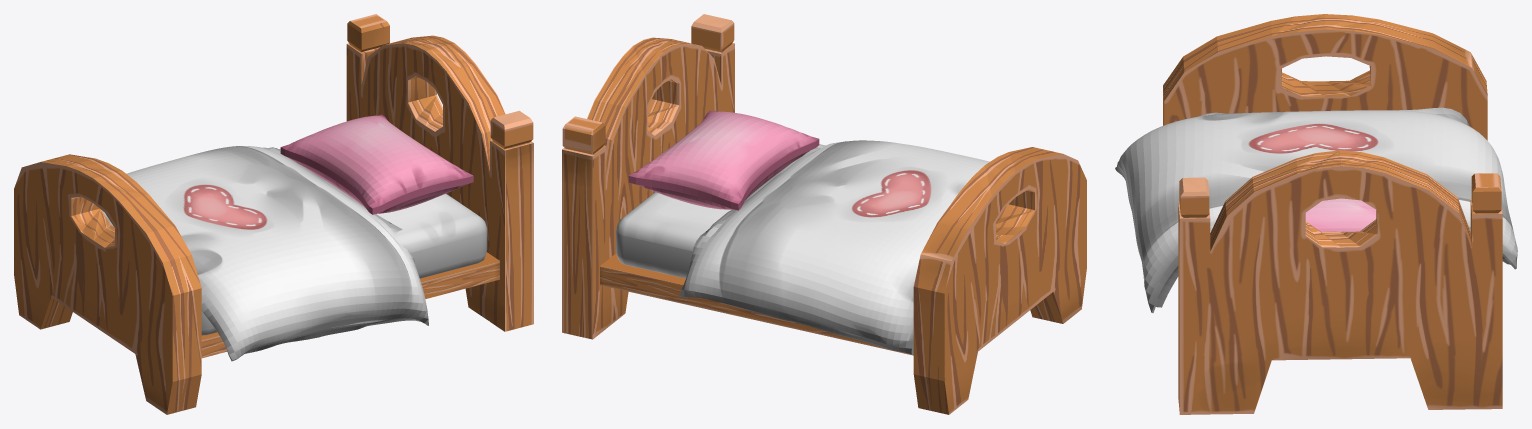
The model's file is Test Bed Nicole.FBX.
3 views of the same model, side by side, from view 1: azimuth 30°, elevation 25°; view 2: azimuth 150°, elevation 25°; view 3: azimuth 270°, elevation 25° (orthographic). The views are drawn at different scales.
Parts seen in each view (by area): view 1: Blanket, Kayu bawah001, Kayu Atas001, Bantal, Mattres, Kayu Tengah001; view 2: Blanket, Kayu bawah001, Kayu Atas001, Bantal, Mattres, Kayu Tengah001; view 3: Kayu Atas001, Blanket, Kayu bawah001, Bantal.
Boxes of the visible parts, bbox=[...] form: Blanket: bbox=[101, 146, 428, 361]; Kayu bawah001: bbox=[14, 154, 201, 414]; Kayu Atas001: bbox=[346, 14, 533, 331]; Bantal: bbox=[280, 114, 473, 214]; Mattres: bbox=[201, 148, 487, 335]; Kayu Tengah001: bbox=[201, 252, 499, 358]; Blanket: bbox=[679, 140, 989, 354]; Kayu bawah001: bbox=[913, 147, 1086, 414]; Kayu Atas001: bbox=[562, 14, 734, 339]; Bantal: bbox=[628, 110, 819, 210]; Mattres: bbox=[616, 144, 825, 278]; Kayu Tengah001: bbox=[600, 253, 913, 355]; Kayu Atas001: bbox=[1178, 150, 1502, 414]; Blanket: bbox=[1115, 107, 1517, 312]; Kayu bawah001: bbox=[1163, 14, 1487, 140]; Bantal: bbox=[1305, 198, 1376, 231].
Bounding box in the file's own units: 302 × 257 × 174.
Materials: 6 (6 with a texture image).
